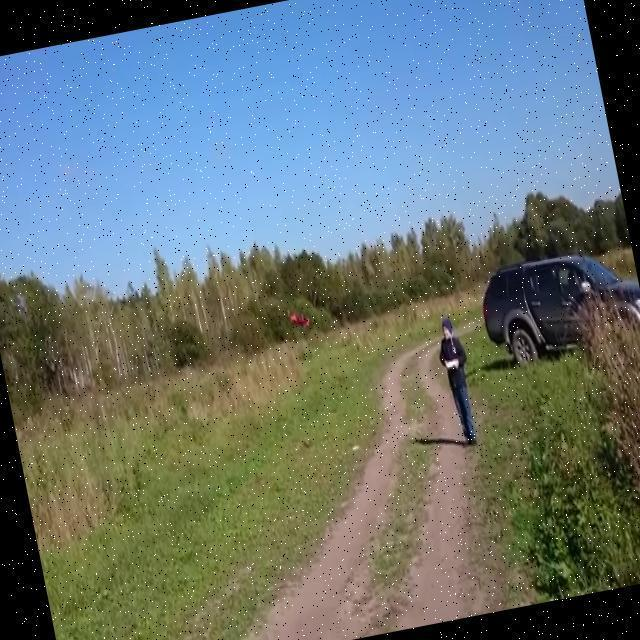Drons: (284, 304, 316, 336)
